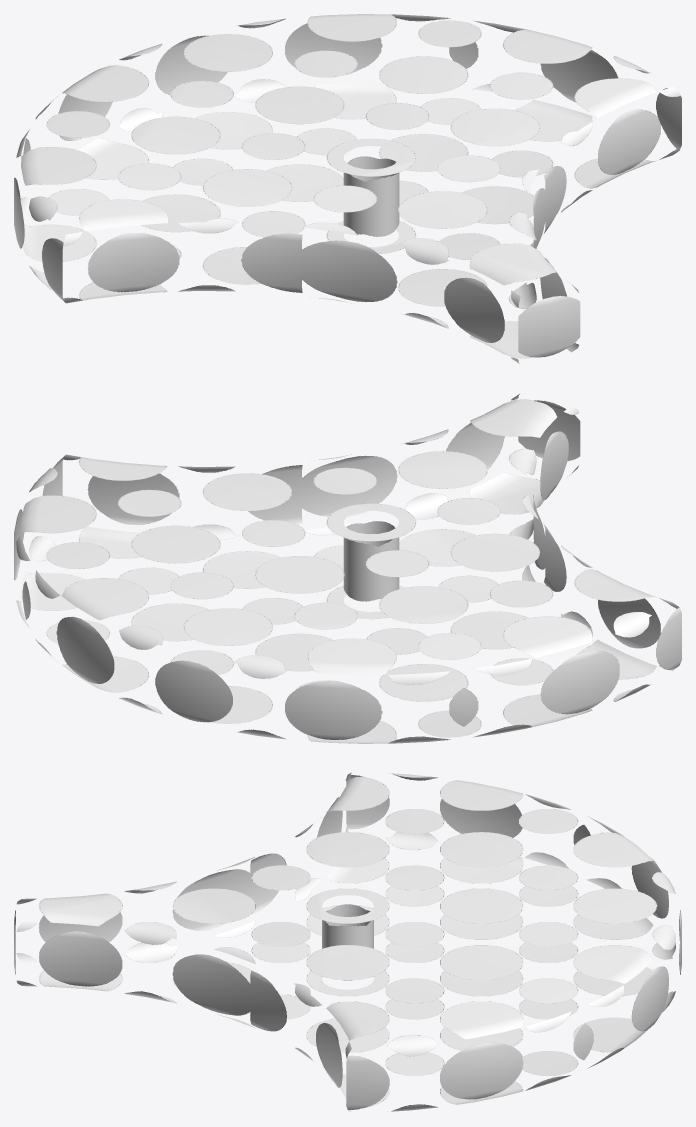
3 renders of one model, top to bottom at view 1: azimuth 30°, elevation 25°; view 2: azimuth 150°, elevation 25°; view 3: azimuth 270°, elevation 25°, orthographic. The views are drawn at different scales.
Visible parts, largest first — view 1: OriginalScallop.001; view 2: OriginalScallop.001; view 3: OriginalScallop.001.
Boxes of the visible parts, left/top/right/bottom form: OriginalScallop.001: left=14, top=14, right=681, bottom=363; OriginalScallop.001: left=14, top=394, right=681, bottom=743; OriginalScallop.001: left=14, top=772, right=681, bottom=1112.
Size of the model in its own units: 600 by 72.02 by 600.
